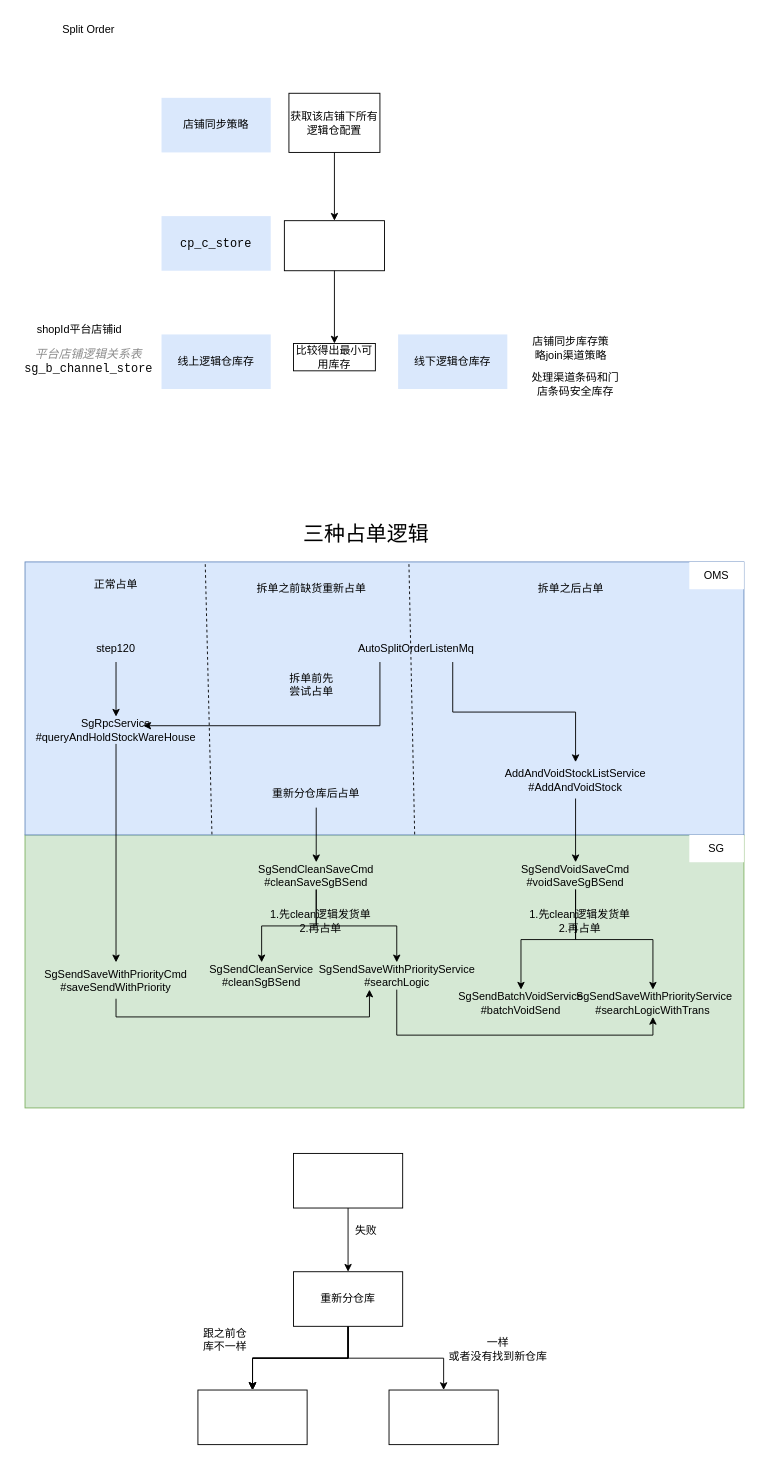
The diagram is 760 pixels wide and 1461 high, and some of its shapes have lost their labels. Here are the shapes that lost their labels. From the top down, the centre of each, then its label:
[333,245]: 根据逻辑仓获取实体仓列表
[348,1180]: 按照原实体仓先尝试占单
[252,1417]: 按照新仓库 重新占单
[443,1417]: 失败 需要拆单了
